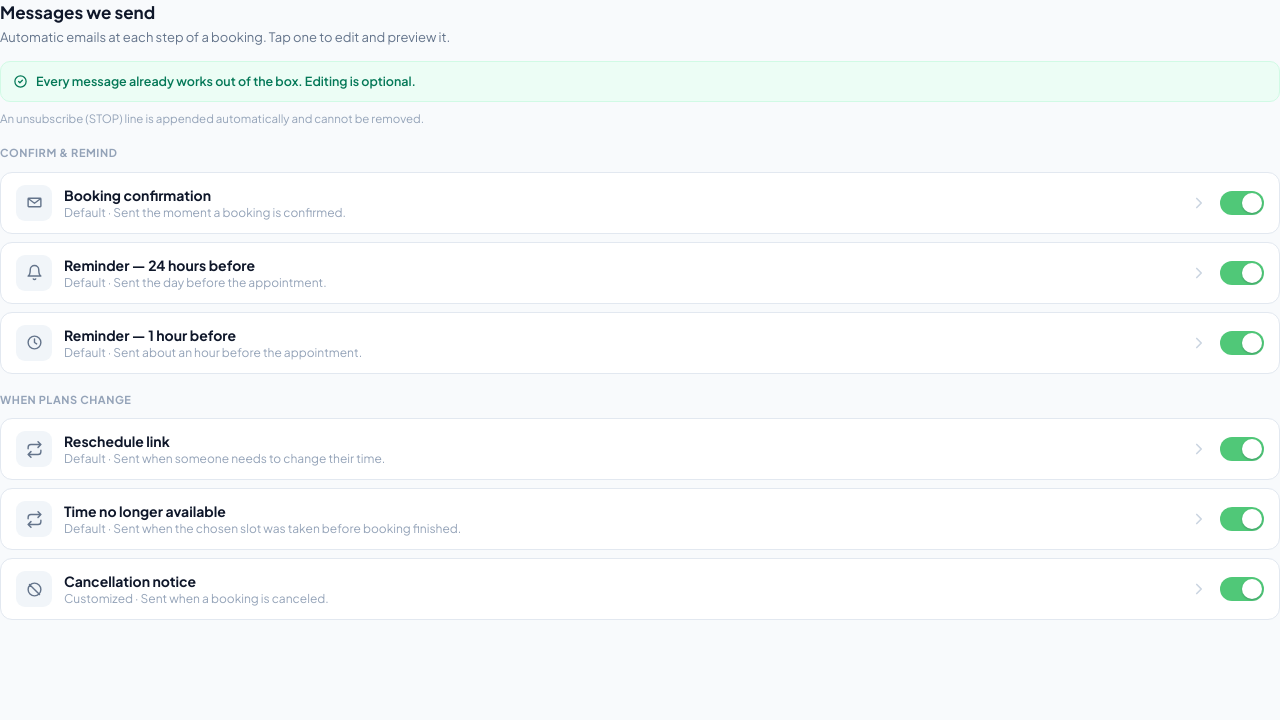
Test: S4 moments › renders the reminder + confirmation rows when the API returns them
Expected: the text "Reminder — 24 hours before" is shown, [64,256,255,274]
Expected: the text "Reminder — 1 hour before" is shown, [64,326,236,344]
Click the button "Booking confirmation" at (34, 202), box [16,184,1208,220]
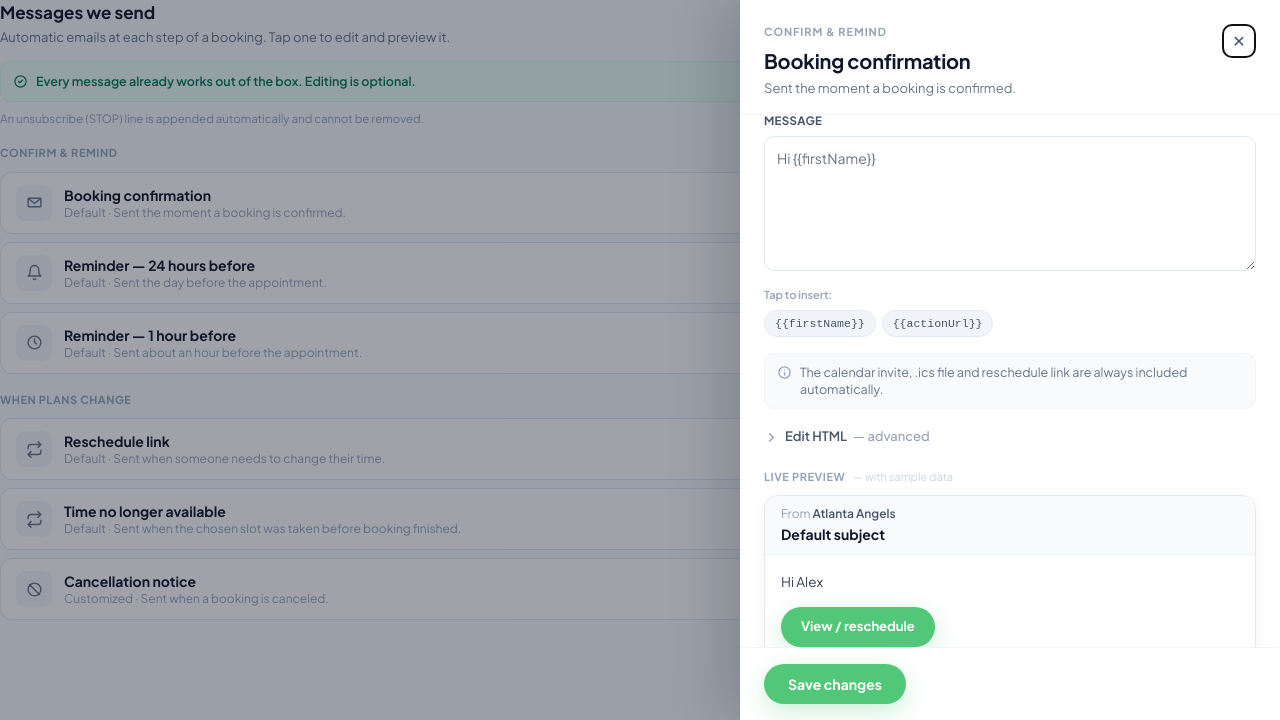
Expected: the text "calendar invite, .ics file and reschedule link are always included" is shown, [800,364,1188,397]
